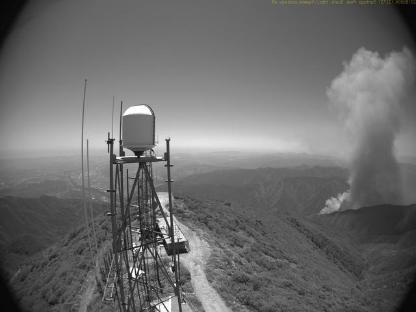smoke: (318, 43, 416, 215)
